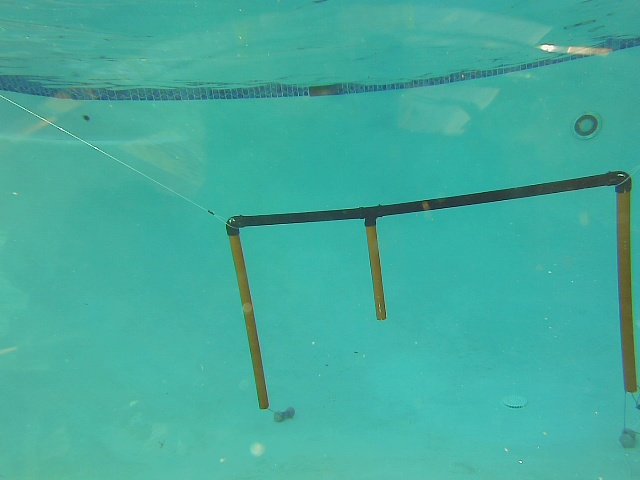Gate: (225, 231, 272, 412), (611, 190, 639, 396), (362, 222, 390, 325)
